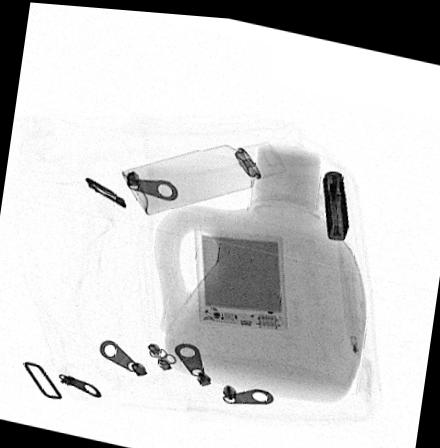Lighter: (323, 164, 348, 234)
Powerbank: (194, 227, 287, 326)
Sprayer: (122, 136, 285, 211)
